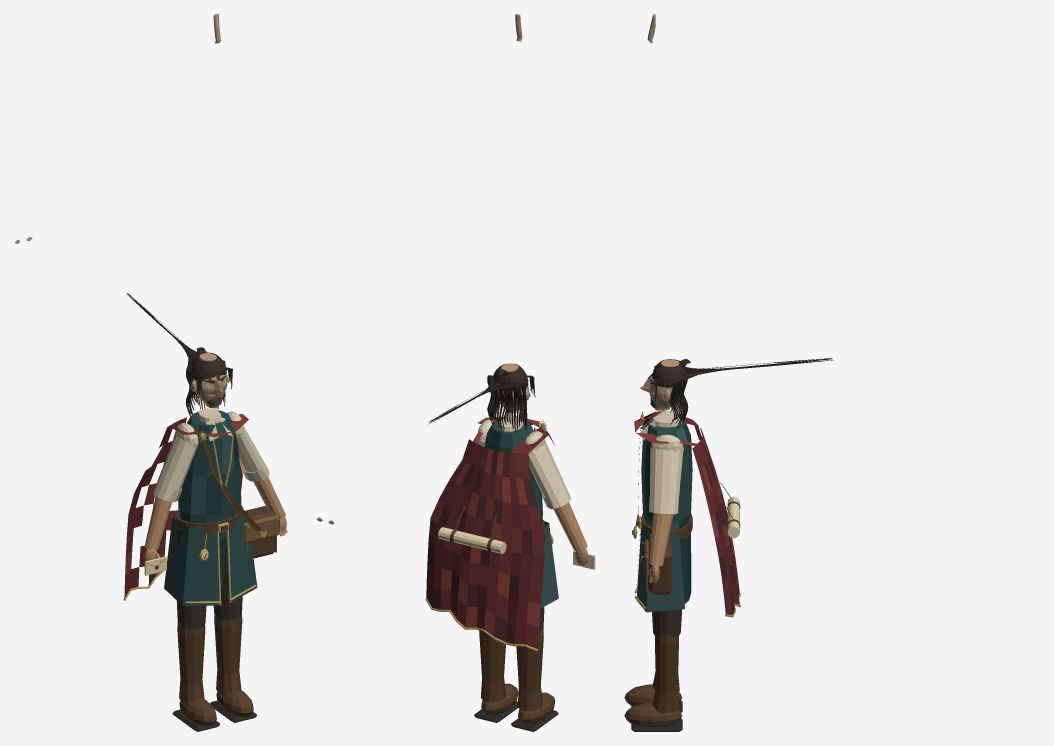
The model's file is courier.glb.
3 views of the same model, side by side, from view 1: azimuth 30°, elevation 25°; view 2: azimuth 150°, elevation 25°; view 3: azimuth 270°, elevation 25° (orthographic).
Visible parts, largest first — view 1: Waistcoat, Split_coat_R, Cloak_folds, Boot_shaft_R, Boot_shaft_L, Split_coat_L, Linen_sleeve_R, Forearm_R, Trouser_thigh_L, Linen_sleeve_L, Boot_toe_R, Boot_toe_L (+8 smaller); view 2: Cloak_folds, Boot_shaft_R, Boot_shaft_L, Linen_sleeve_R, Waistcoat, Split_coat_R, Map_roll, Forearm_R, Boot_toe_R, Boot_toe_L, Hair_target_top; view 3: Cloak_folds, Waistcoat, Linen_sleeve_L, Split_coat_L, Boot_shaft_L, Boot_toe_L, Forearm_L, Trouser_thigh_L, Messenger_satchel.
Boxes of the visible parts, <box> form: Waistcoat: <box>178,410,241,538</box>; Split_coat_R: <box>164,517,219,605</box>; Cloak_folds: <box>124,413,248,598</box>; Boot_shaft_R: <box>177,621,205,703</box>; Boot_shaft_L: <box>214,613,242,694</box>; Split_coat_L: <box>226,510,257,602</box>; Linen_sleeve_R: <box>153,434,197,502</box>; Forearm_R: <box>144,496,171,549</box>; Trouser_thigh_L: <box>213,538,242,620</box>; Linen_sleeve_L: <box>237,427,269,481</box>; Boot_toe_R: <box>179,699,216,726</box>; Boot_toe_L: <box>216,690,253,717</box>; Cloak_folds: <box>426,416,554,649</box>; Boot_shaft_R: <box>516,628,543,711</box>; Boot_shaft_L: <box>479,630,506,702</box>; Linen_sleeve_R: <box>528,441,570,509</box>; Waistcoat: <box>484,418,542,523</box>; Split_coat_R: <box>540,521,558,608</box>; Map_roll: <box>438,527,506,553</box>; Forearm_R: <box>553,502,587,551</box>; Boot_toe_R: <box>518,692,555,723</box>; Boot_toe_L: <box>481,683,518,714</box>; Hair_target_top: <box>493,363,528,390</box>; Cloak_folds: <box>634,411,739,614</box>; Waistcoat: <box>641,414,692,530</box>; Linen_sleeve_L: <box>649,448,683,514</box>; Split_coat_L: <box>637,521,684,612</box>; Boot_shaft_L: <box>652,633,679,713</box>; Boot_toe_L: <box>624,702,682,726</box>; Forearm_L: <box>648,513,673,566</box>; Trouser_thigh_L: <box>652,537,683,637</box>; Messenger_satchel: <box>648,540,672,594</box>.
Bounding box in the file's own units: 0.7395 × 3.42 × 1.83.
